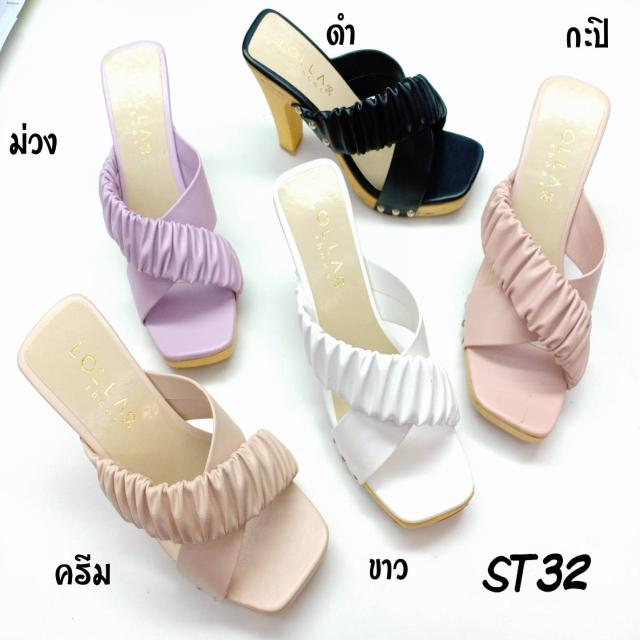black: (243, 7, 477, 214)
cream: (32, 292, 330, 609)
kapi: (470, 74, 608, 444)
purple: (100, 40, 237, 368)
white: (278, 162, 468, 520)
